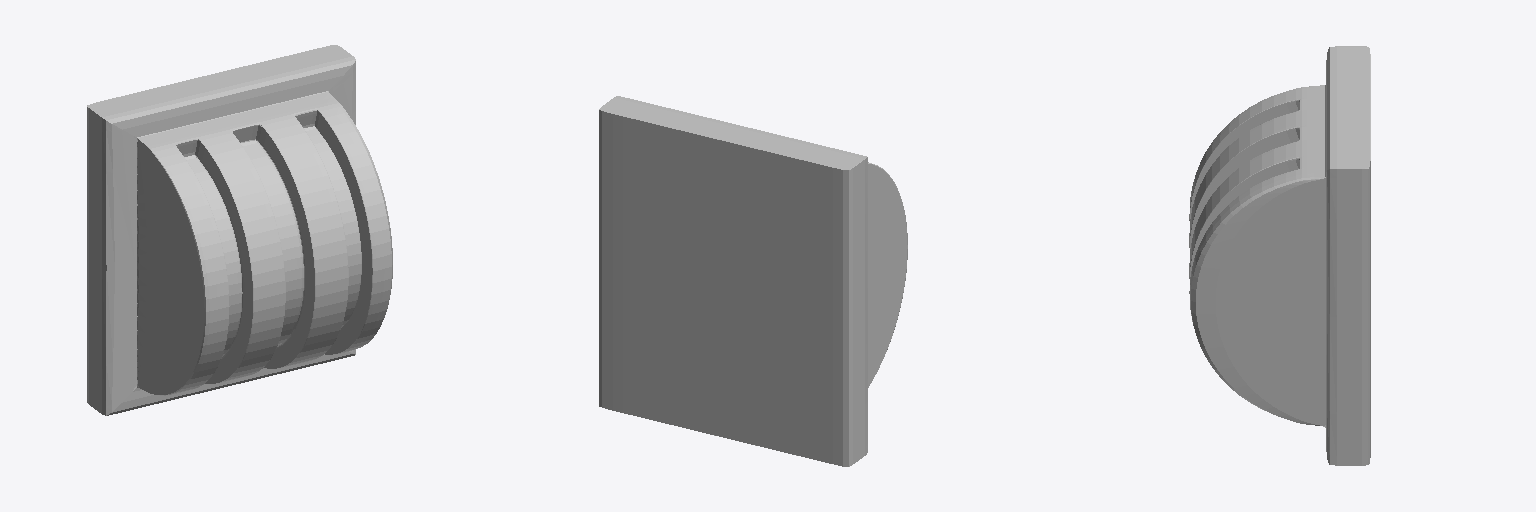
File: Lever_arm-light(2).obj
The picture shows the model from 3 angles: view 1: azimuth 30°, elevation 25°; view 2: azimuth 150°, elevation 25°; view 3: azimuth 270°, elevation 25°; orthographic projection.
Visible parts, largest first — view 1: Cylinder; view 2: Cylinder; view 3: Cylinder.
Part boxes in pixels (x1,y1,x2,y2): Cylinder: (87, 45, 392, 415); Cylinder: (599, 96, 907, 466); Cylinder: (1189, 46, 1370, 465).
Bounding box in the file's own units: 2.11 × 2.38 × 1.32.